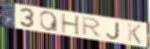3: (19, 7, 37, 29)
H: (60, 13, 81, 36)
J: (105, 21, 121, 40)
K: (126, 22, 142, 45)
Q: (39, 10, 60, 33)
R: (81, 16, 102, 39)
